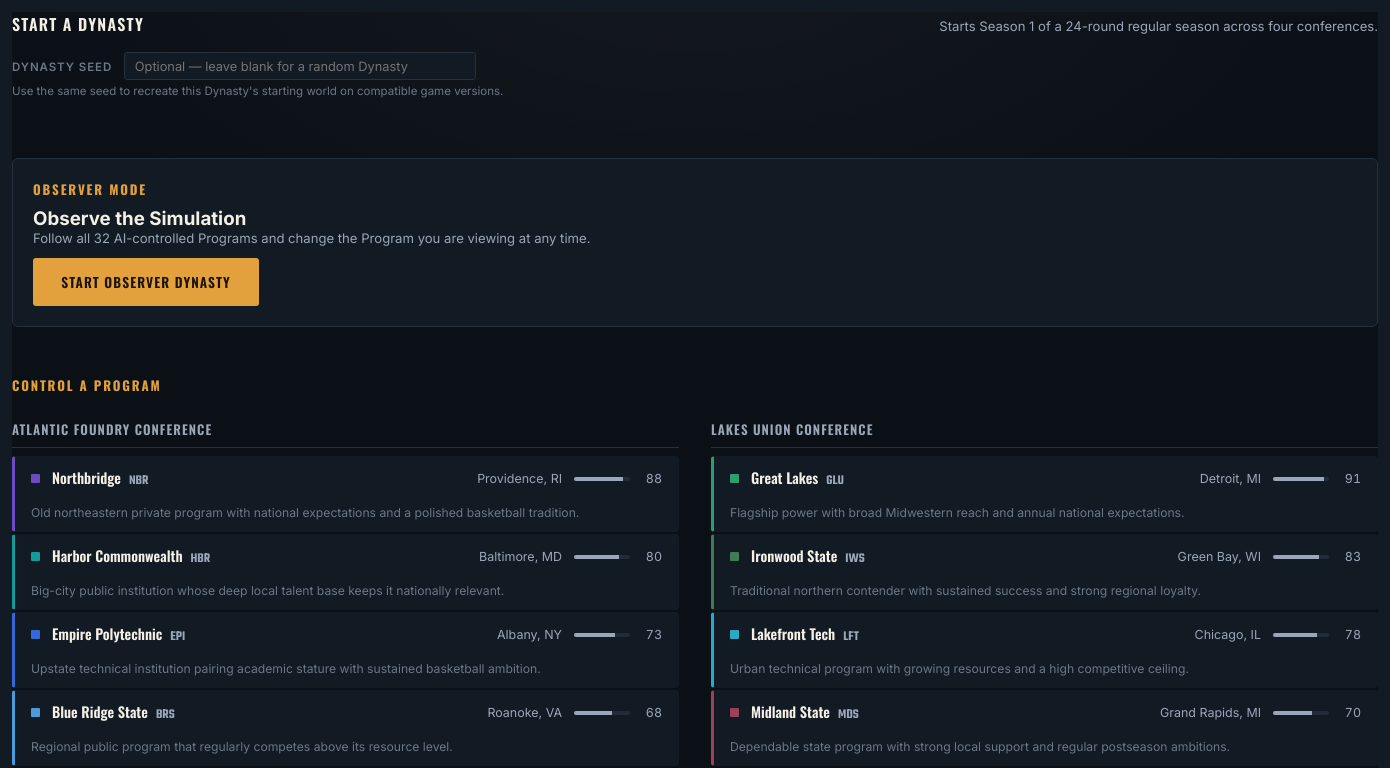
ProgramSelectScreen Dynasty Seed › rejects an out-of-range numeric seed
Type "99999999999999999999999999" into the field labelled "Dynasty Seed".
click(300, 66); type("99999999999999999999999999")  # box [124,52,476,80]
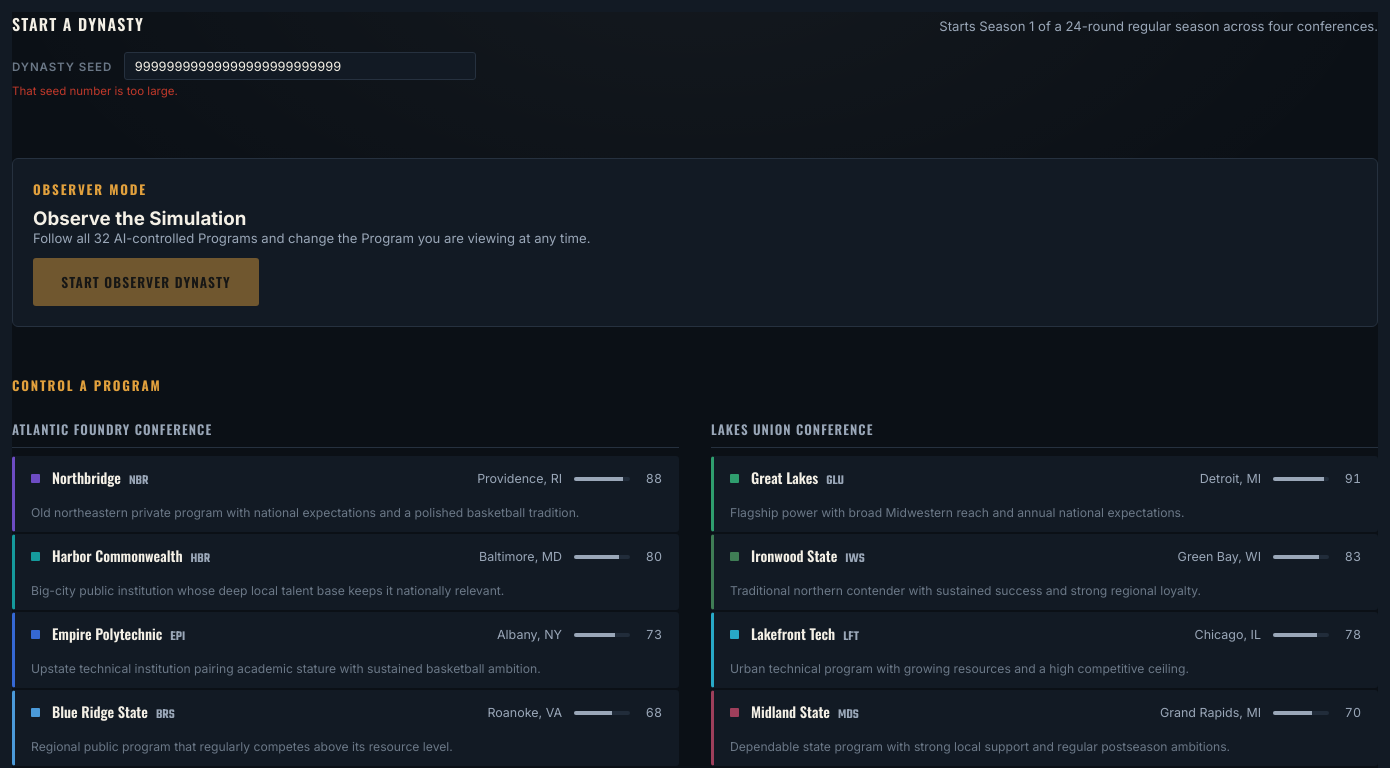
expect the text "That seed number is too large." is shown: met, box [12,84,178,98]
expect the button "Start Observer Dynasty" is disabled: met, box [33,258,259,306]
